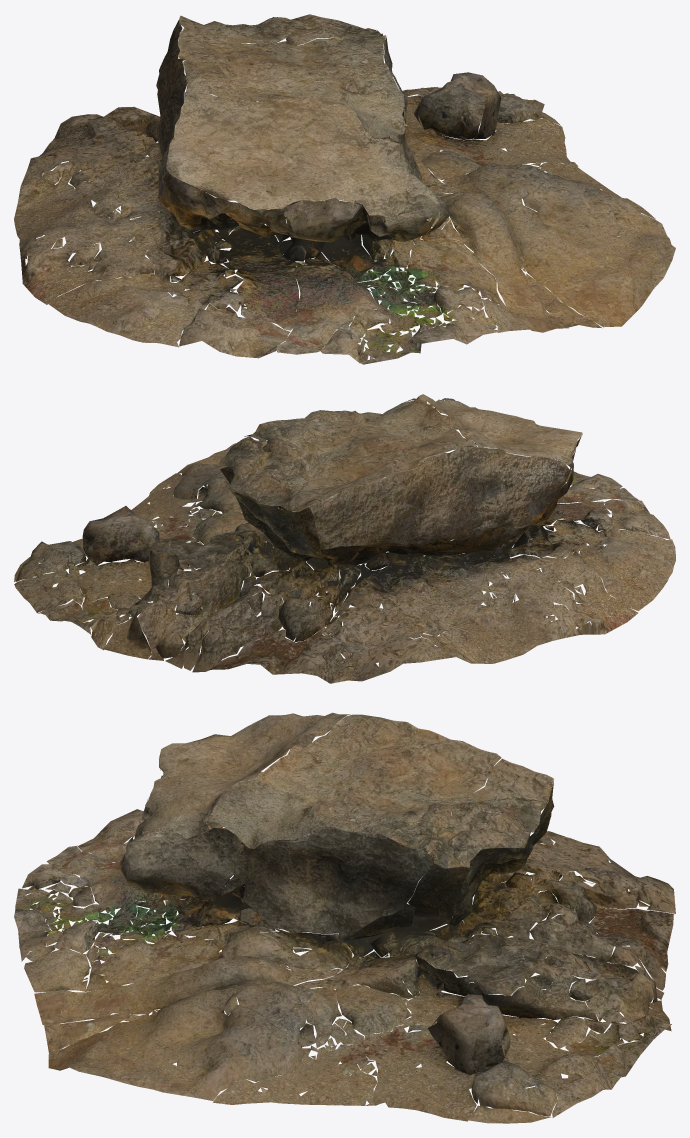
Rendered from coast-rocks-05.glb.
The picture shows the model from 3 angles, top to bottom: view 1: azimuth 30°, elevation 25°; view 2: azimuth 150°, elevation 25°; view 3: azimuth 270°, elevation 25°; orthographic projection. The views are drawn at different scales.
Visible parts, largest first — view 1: coast_rocks_05; view 2: coast_rocks_05; view 3: coast_rocks_05.
Boxes of the visible parts, box(x1,y1,x2,y2) form: coast_rocks_05: box(14, 14, 675, 364); coast_rocks_05: box(14, 394, 675, 683); coast_rocks_05: box(14, 712, 675, 1123).
Bounding box in the file's own units: 4.03 × 1.33 × 3.75.
Materials: 1 (1 with a texture image).
